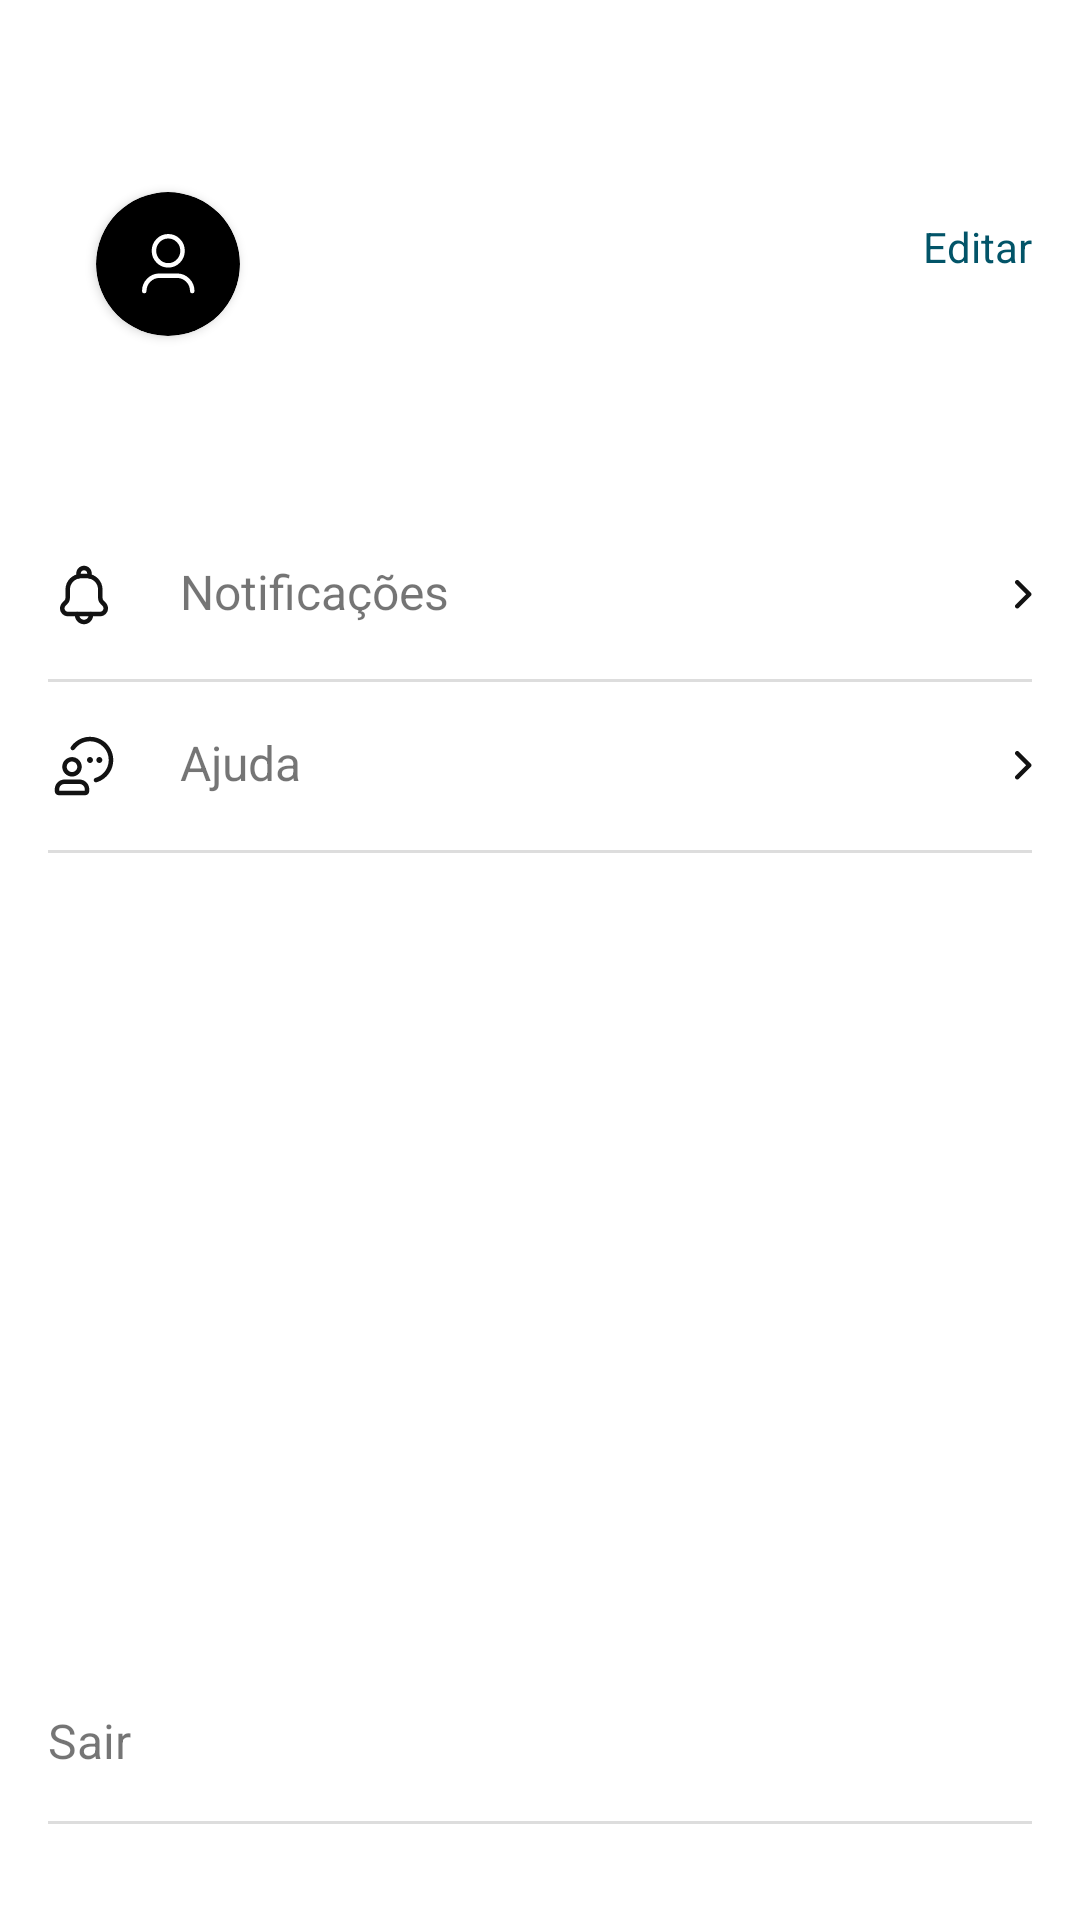

Icon bounding boxes for this 1080 × 1920 phone screenshot, format (x1, y1, x2, y2):
profile: (96, 192, 240, 336)
